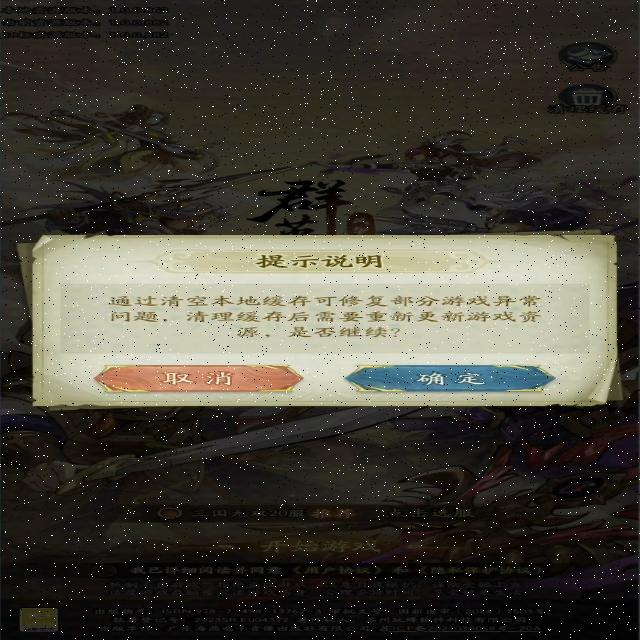operation-close: (89, 364, 305, 392)
operation-confirm: (346, 363, 553, 392)
